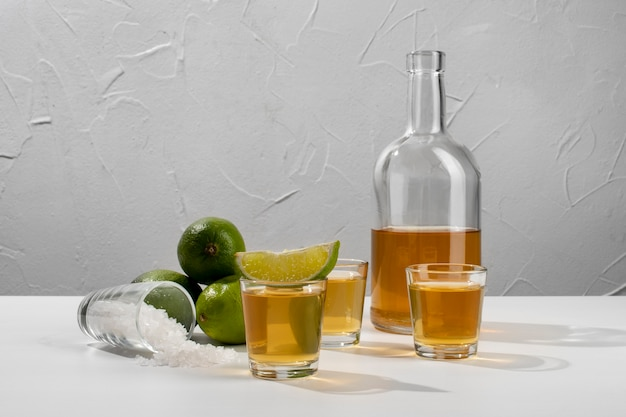alcohol: (368, 47, 483, 332), (233, 247, 326, 385), (402, 263, 490, 361), (298, 256, 371, 348)
